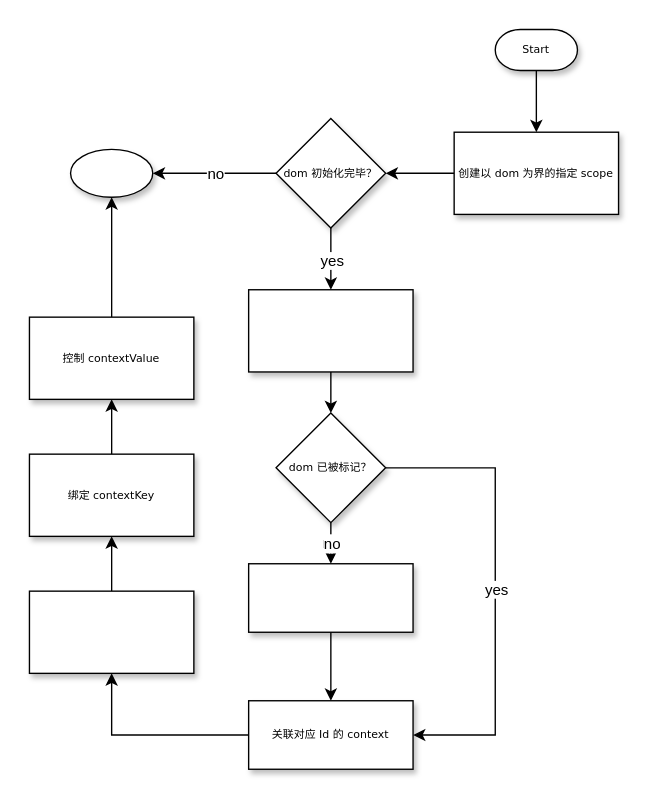
This 651x803 diagram has some shape labels left out. The shapes that lost their labels are listed below. From the top down, each one's centre as x and y in pixels, then its label:
At (112,174): "End".
At (331,332): "在根 context 下 （若无）创建 scopeContext".
At (331,599): "打标 设置 contextId".
At (112,633): "返回此 context 对应的 contextService".
